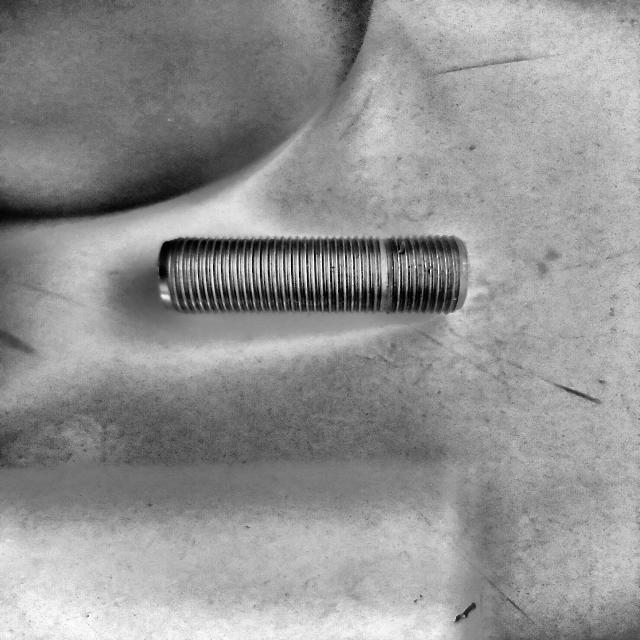Broken: (158, 235, 469, 316)
